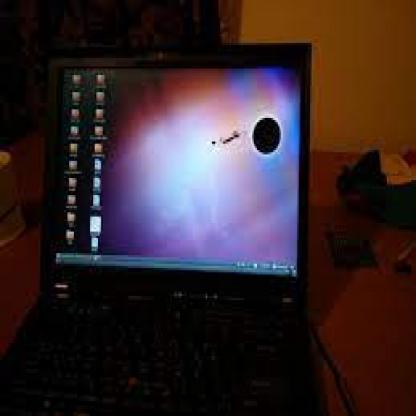fade: (64, 71, 297, 270)
spot: (249, 111, 286, 163), (207, 124, 241, 154)
